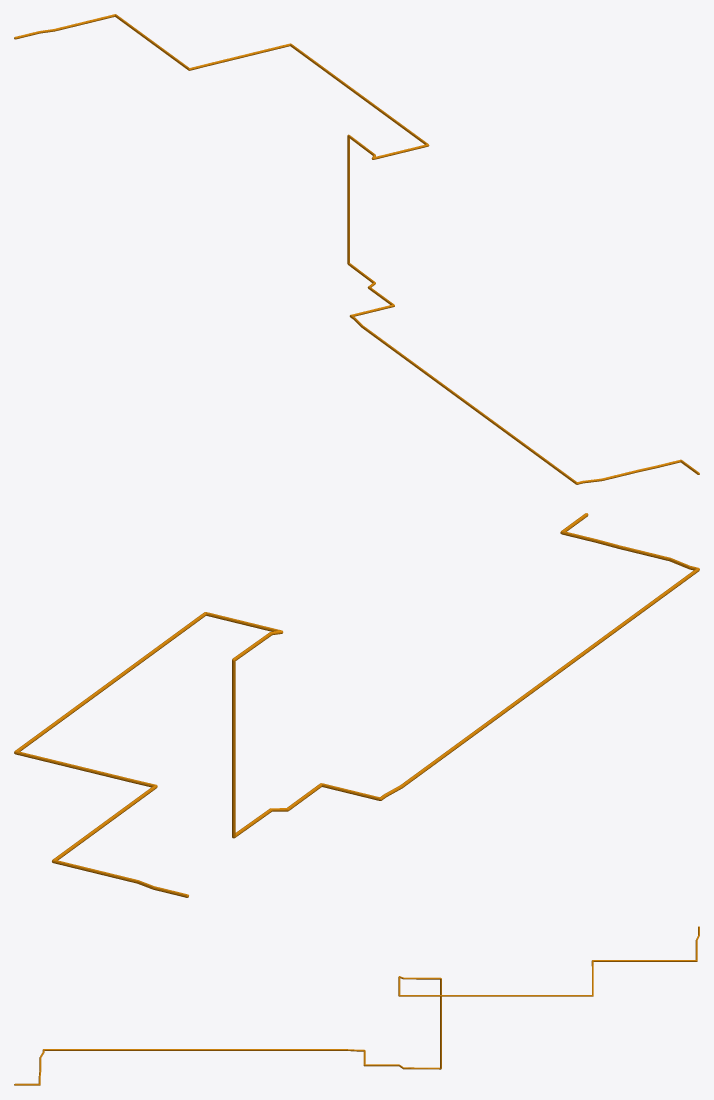
3 views of the same model, one above another, from view 1: azimuth 30°, elevation 25°; view 2: azimuth 150°, elevation 25°; view 3: azimuth 270°, elevation 25° (orthographic). The views are drawn at different scales.
Bounding box in the file's own units: 1656 × 1020 × 6918.
